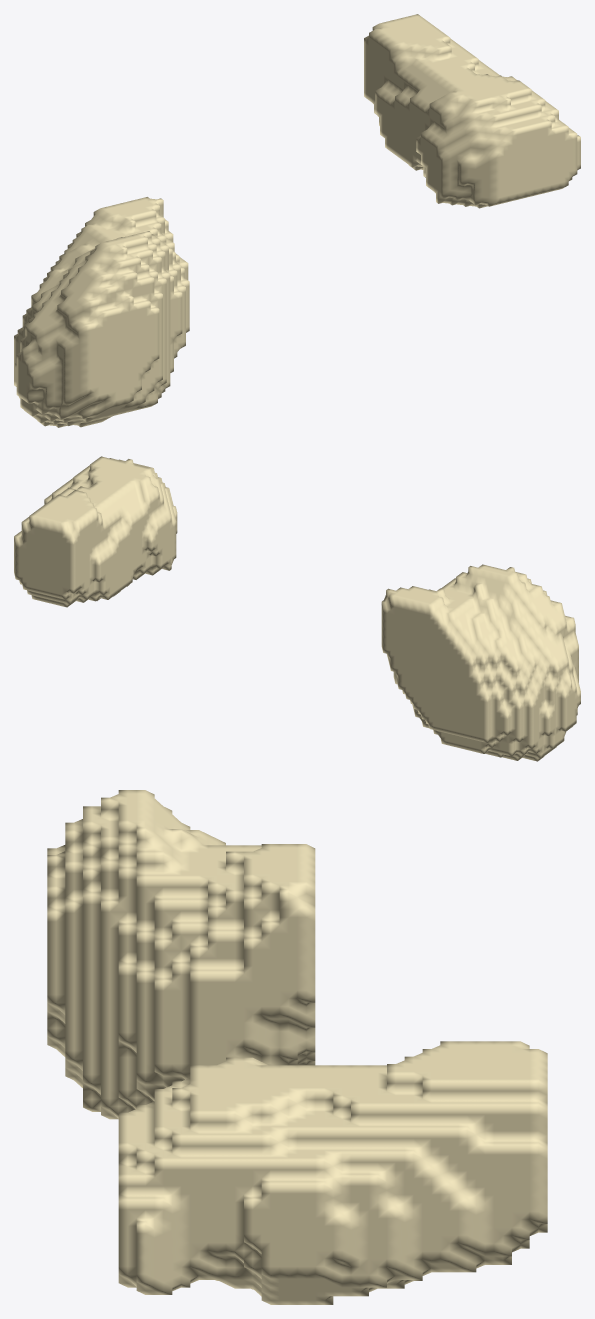
File: region-20.glb
3 renders of one model, top to bottom at view 1: azimuth 30°, elevation 25°; view 2: azimuth 150°, elevation 25°; view 3: azimuth 270°, elevation 25°, orthographic. The views are drawn at different scales.
Parts seen in each view (by area): view 1: digimouse-volume:20; view 2: digimouse-volume:20; view 3: digimouse-volume:20.
Part boxes in pixels (x1,y1,x2,y2): digimouse-volume:20: (14, 14, 580, 427); digimouse-volume:20: (14, 456, 580, 761); digimouse-volume:20: (47, 790, 547, 1304).
Bounding box in the file's own units: 0.0064 × 0.0025 × 0.0028.
